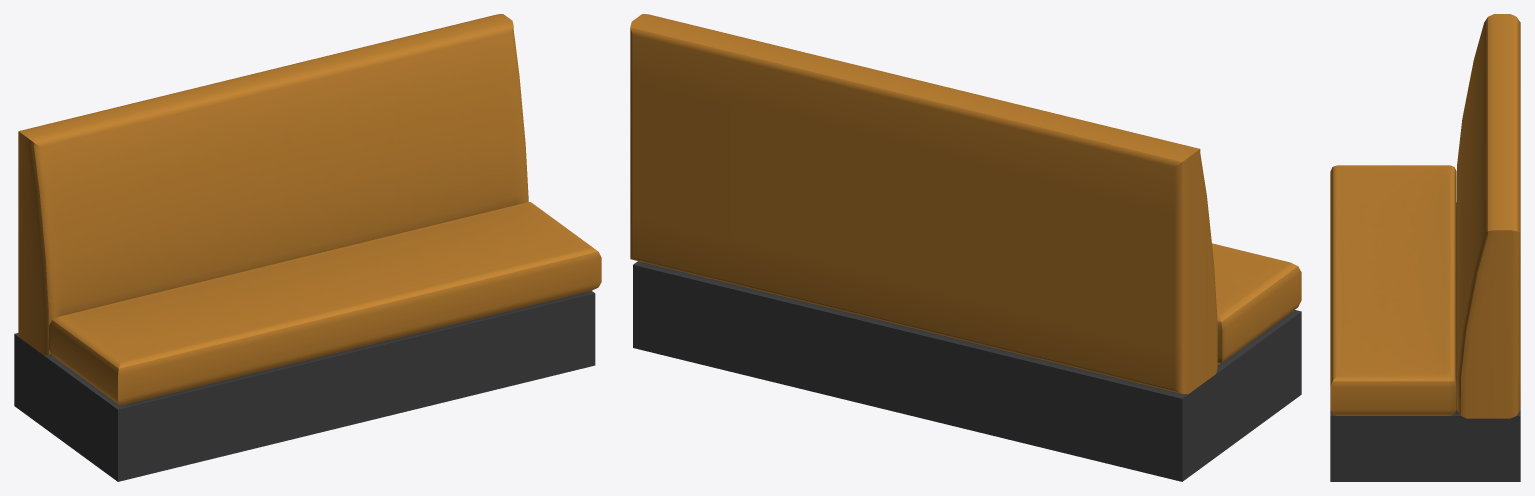
File: FamilyRestaurant_Sofa.fbx
3 renders of one model, left to right at view 1: azimuth 30°, elevation 25°; view 2: azimuth 150°, elevation 25°; view 3: azimuth 270°, elevation 25°, orthographic. The views are drawn at different scales.
Parts seen in each view (by area): view 1: Sofa; view 2: Sofa; view 3: Sofa.
Boxes of the visible parts, x1,y1,x2,y2 form: Sofa: (14,14,601,481); Sofa: (630,14,1301,481); Sofa: (1330,14,1520,481).
Bounding box in the file's own units: 182 × 100 × 67.78.
